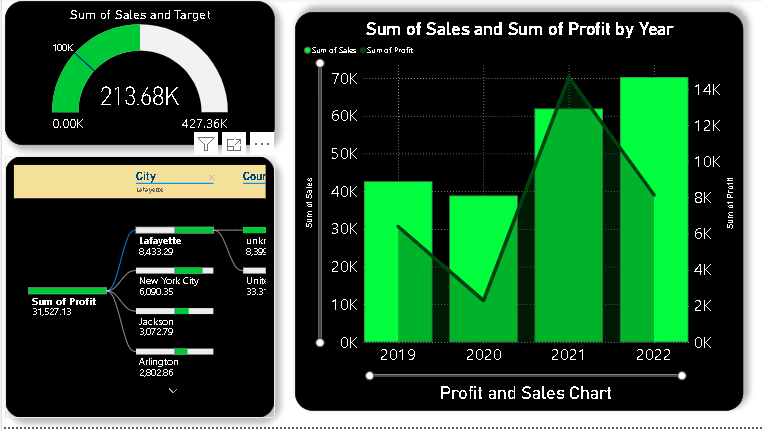

What the dashboard file says about the page in this screenshot:
{"tool":"powerbi","page":{"name":"Page 6","canvas":[1280,720],"ordinal":3},"visuals":[{"type":"lineStackedColumnComboChart","fields":{"Category":["Sheet1.Order Date.Variation.Date Hierarchy.Year","Sheet1.Order Date.Variation.Date Hierarchy.Quarter","Sheet1.Order Date.Variation.Date Hierarchy.Month","Sheet1.Order Date.Variation.Date Hierarchy.Day"],"Y":["Sum(Sheet1.Sales)"],"Y2":["Sum(Sheet1.Profit)"]},"box":[492.2,23.5,752.5,670.2],"z":0},{"type":"gauge","fields":{"Y":["Sum(Sheet1.Sales)"],"TargetValue":["Sheet1.Target"]},"box":[5,5,453.3,241.7],"z":1000},{"type":"decompositionTreeVisual","fields":{"Analyze":["Sum(Sheet1.Profit)"],"ExplainBy":["Sheet1.City","Sheet1.Country/Region","Sheet1.Sub-Category","Sheet1.Segment","Sheet1.Category"]},"box":[5.7,265.7,452.9,440],"z":2000}]}

Visuals, with their boxes in screenshot pixels (x1, y1, x2, y2), scaled from the page's 1280x720 canvas onto the 762x431 screenshot:
lineStackedColumnComboChart - Sheet1.Order Date.Variation.Date Hierarchy.Year x Sheet1.Order Date.Variation.Date Hierarchy.Quarter: 293:14:741:415
gauge - Sum(Sheet1.Sales) x Sheet1.Target: 3:3:273:148
decompositionTreeVisual - Sum(Sheet1.Profit) x Sheet1.City: 3:159:273:422
